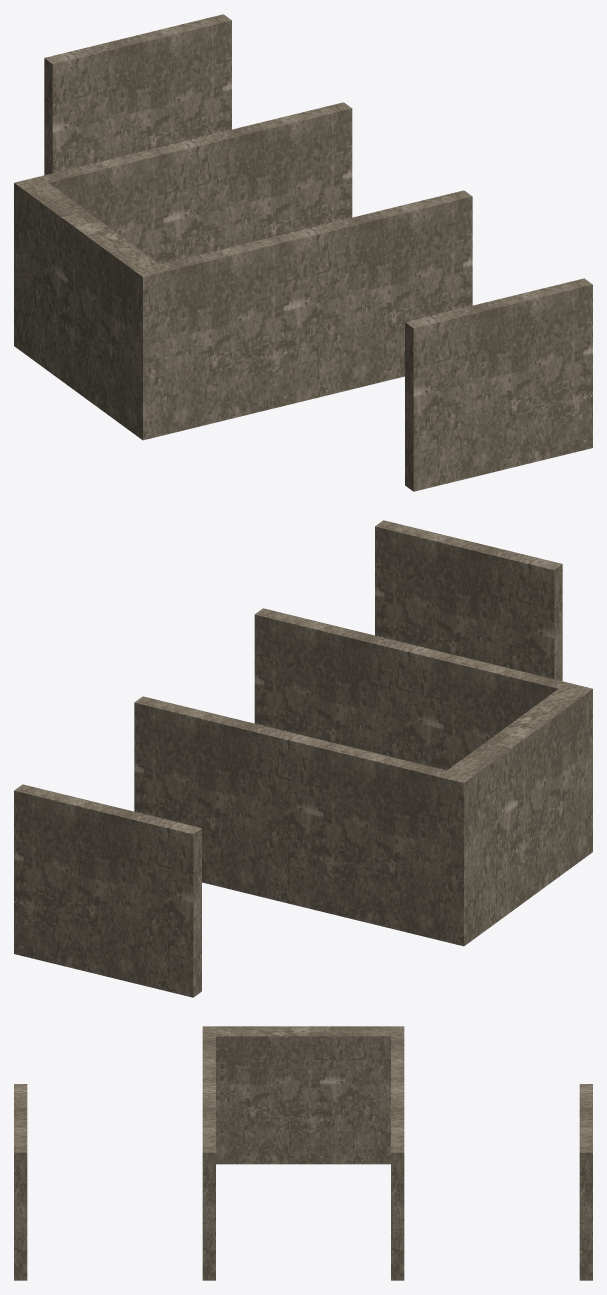
The model's file is Scianki.fbx.
The picture shows the model from 3 angles, top to bottom: view 1: azimuth 30°, elevation 25°; view 2: azimuth 150°, elevation 25°; view 3: azimuth 270°, elevation 25°; orthographic projection. The views are drawn at different scales.
Visible parts, largest first — view 1: Cube.003; view 2: Cube.003; view 3: Cube.003.
Boxes of the visible parts, <box> form: Cube.003: <box>14,14,592,491</box>; Cube.003: <box>14,520,592,997</box>; Cube.003: <box>14,1026,592,1280</box>.
Size of the model in its own units: 666 by 315 by 1292.
